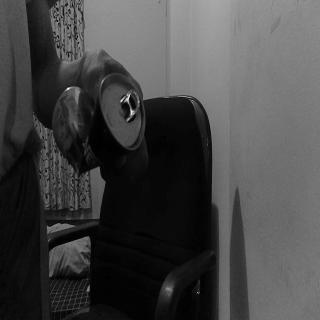alumunium_can: (53, 69, 146, 164)
